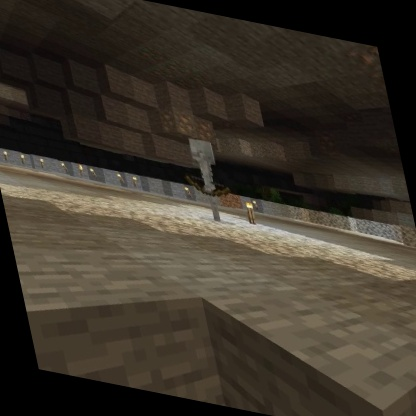skeleton: (172, 130, 242, 228)
